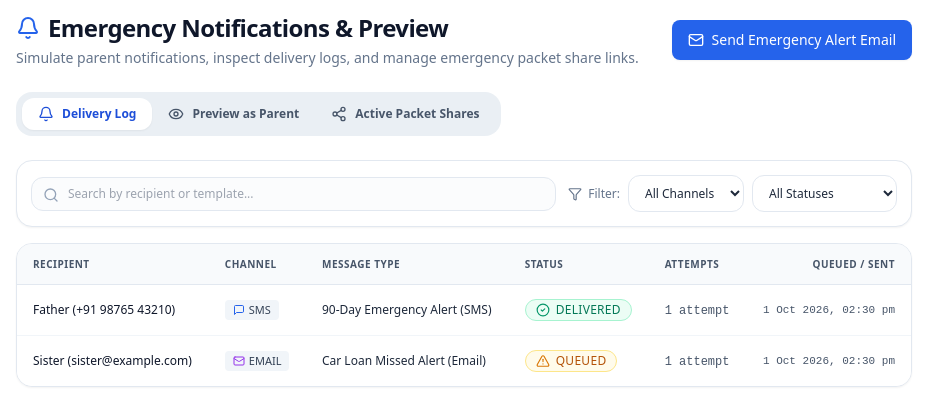
Notifications & Preview Feature (Phase 7) › filters notification log by channel, status, and search query
Expected: the text "Father (+91 98765 43210)" is shown, [17,284,209,336]
Expected: the text "Sister (sister@example.com)" is shown, [17,336,209,386]
# Filter by channel: EMAIL
Select "Email" in the dropdown named "filter by delivery channel" at (686, 194), box [628,175,744,212]
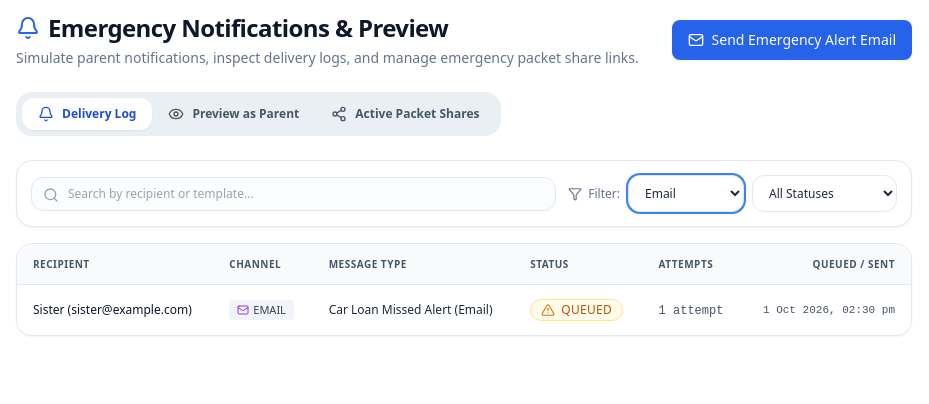
Expected: the text "Sister (sister@example.com)" is shown, [17,284,213,335]
Expected: the text "Father (+91 98765 43210)" is gone
# Reset channel to ALL, then filter by search query
Select "All Channels" in the dropdown named "filter by delivery channel" at (686, 194), box [628,175,744,212]
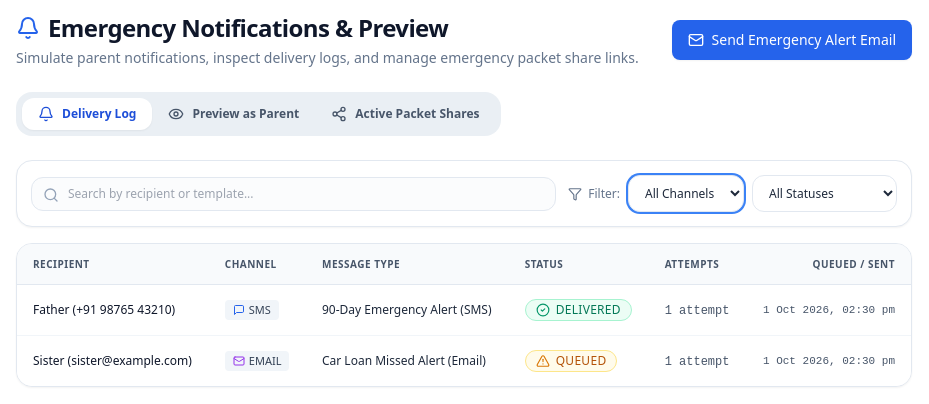
Type "Father" into the field named "search notifications" at (294, 194), box [31,176,556,210]
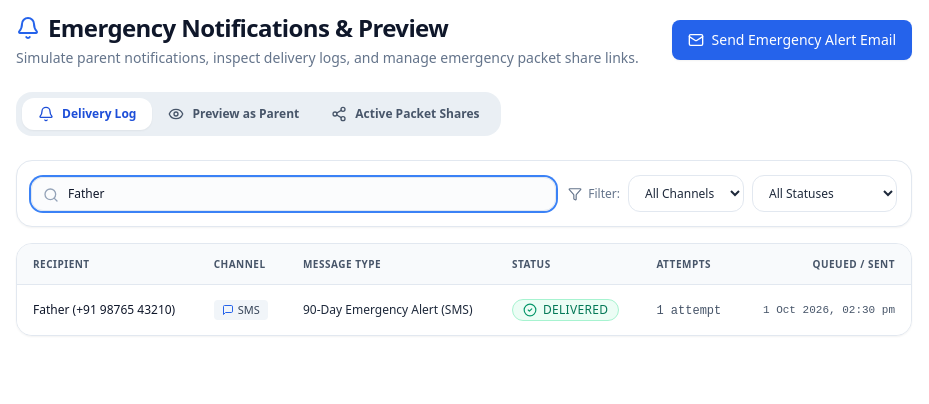
Expected: the text "Father (+91 98765 43210)" is shown, [17,284,198,335]
Expected: the text "Sister (sister@example.com)" is gone
